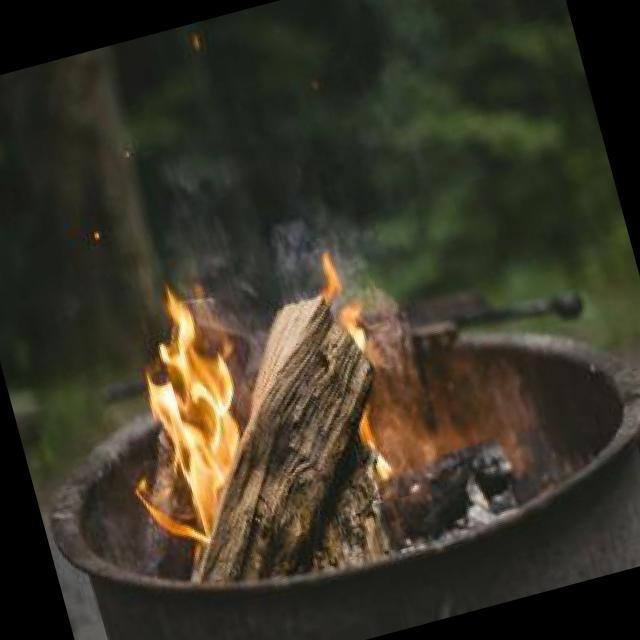Fire: (100, 283, 276, 554), (296, 231, 410, 484)
